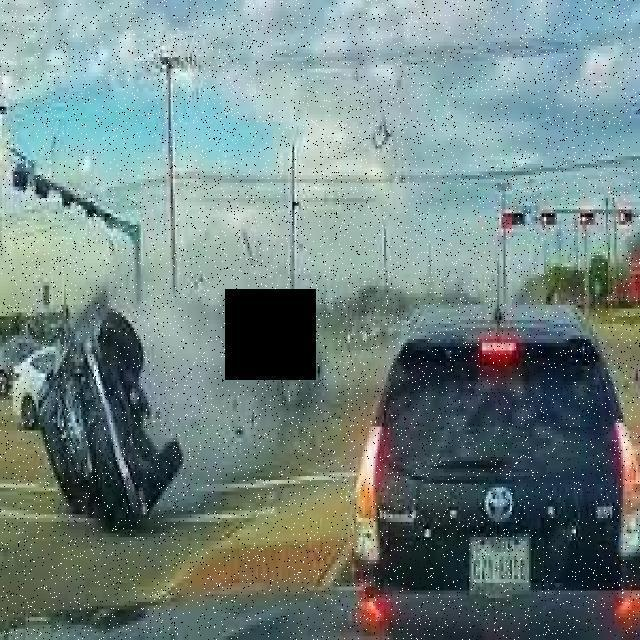multiple_accident: (45, 240, 210, 557)
normal: (342, 243, 640, 615)
